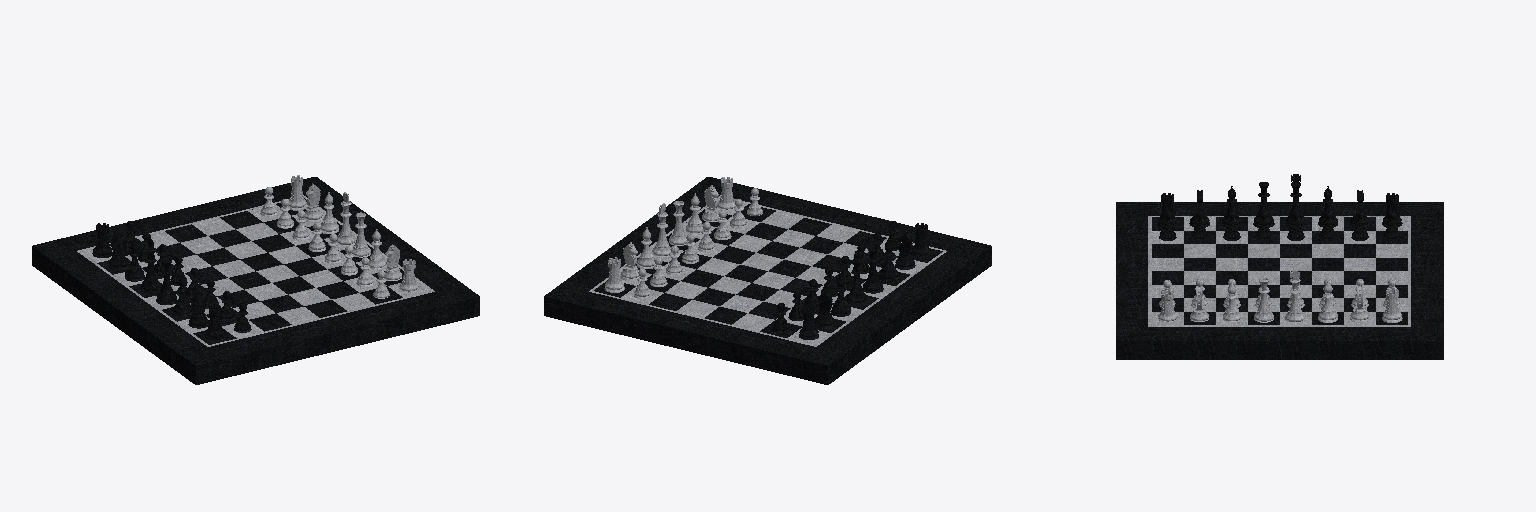
3 views of the same model, side by side, from view 1: azimuth 30°, elevation 25°; view 2: azimuth 150°, elevation 25°; view 3: azimuth 270°, elevation 25° (orthographic).
Visible parts, largest first — view 1: Object_BlackMarbleShade_68, Object_ChessBoard_White_66, Object_ChessBoard_Black_64, Object_ChessBoard_Black_65, Object_ChessBoard_White_67, Object_WhiteMarbleShade_69, Object_WhiteKing_Whit_8; view 2: Object_BlackMarbleShade_68, Object_ChessBoard_White_66, Object_ChessBoard_Black_64, Object_ChessBoard_Black_65, Object_ChessBoard_White_67, Object_WhiteMarbleShade_69, Object_WhiteKing_Whit_8; view 3: Object_BlackMarbleShade_68, Object_ChessBoard_White_66, Object_ChessBoard_Black_64, Object_WhiteMarbleShade_69, Object_ChessBoard_White_67, Object_ChessBoard_Black_65, Object_BlackKing_Blac_38.
Part boxes in pixels (bbox=[...]): Object_BlackMarbleShade_68: bbox=[32, 177, 479, 384]; Object_ChessBoard_White_66: bbox=[81, 204, 429, 337]; Object_ChessBoard_Black_64: bbox=[105, 198, 403, 344]; Object_ChessBoard_Black_65: bbox=[97, 211, 394, 338]; Object_ChessBoard_White_67: bbox=[110, 208, 376, 326]; Object_WhiteMarbleShade_69: bbox=[77, 195, 434, 346]; Object_WhiteKing_Whit_8: bbox=[140, 238, 160, 293]; Object_BlackMarbleShade_68: bbox=[544, 177, 991, 384]; Object_ChessBoard_White_66: bbox=[620, 198, 926, 344]; Object_ChessBoard_Black_64: bbox=[594, 204, 942, 337]; Object_ChessBoard_Black_65: bbox=[649, 211, 934, 334]; Object_ChessBoard_White_67: bbox=[636, 211, 917, 341]; Object_WhiteMarbleShade_69: bbox=[589, 195, 946, 346]; Object_WhiteKing_Whit_8: bbox=[846, 250, 867, 304]; Object_BlackMarbleShade_68: bbox=[1116, 202, 1443, 359]; Object_ChessBoard_White_66: bbox=[1152, 217, 1407, 324]; Object_ChessBoard_Black_64: bbox=[1152, 217, 1407, 324]; Object_WhiteMarbleShade_69: bbox=[1148, 216, 1410, 326]; Object_ChessBoard_White_67: bbox=[1152, 217, 1407, 311]; Object_ChessBoard_Black_65: bbox=[1168, 217, 1407, 311]; Object_BlackKing_Blac_38: bbox=[1285, 270, 1305, 322].
Size of the model in its own units: 2.5 by 0.5801 by 2.5.
Materials: 37 (2 with a texture image).